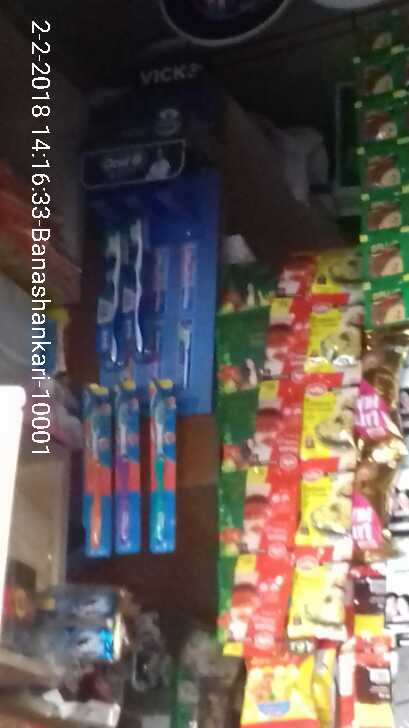oralb: (112, 382, 144, 553), (148, 381, 175, 550), (83, 388, 109, 555), (125, 218, 155, 357)
